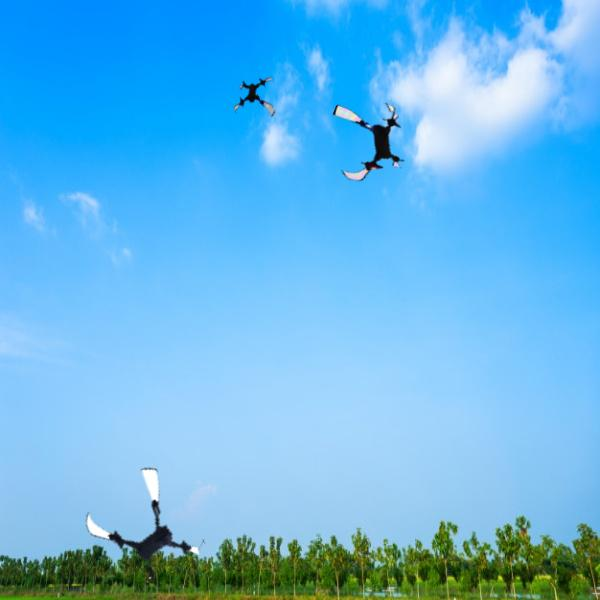drone: (83, 470, 202, 589), (326, 98, 416, 188), (231, 76, 284, 129)
